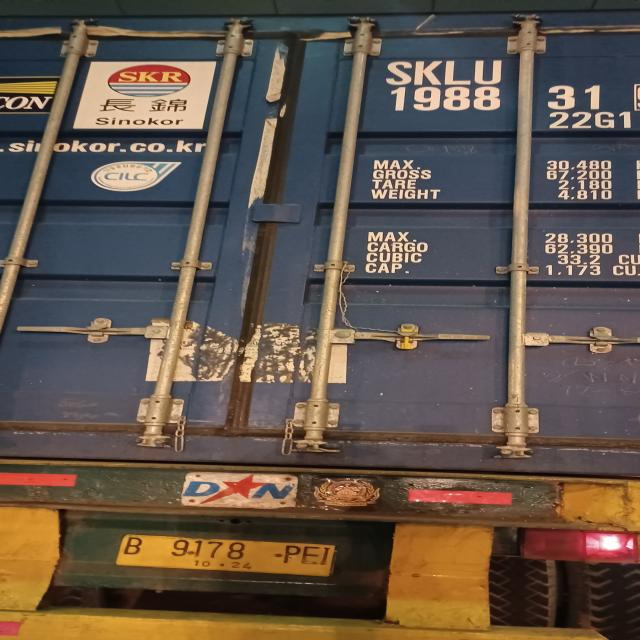seal: (394, 325, 420, 350)
